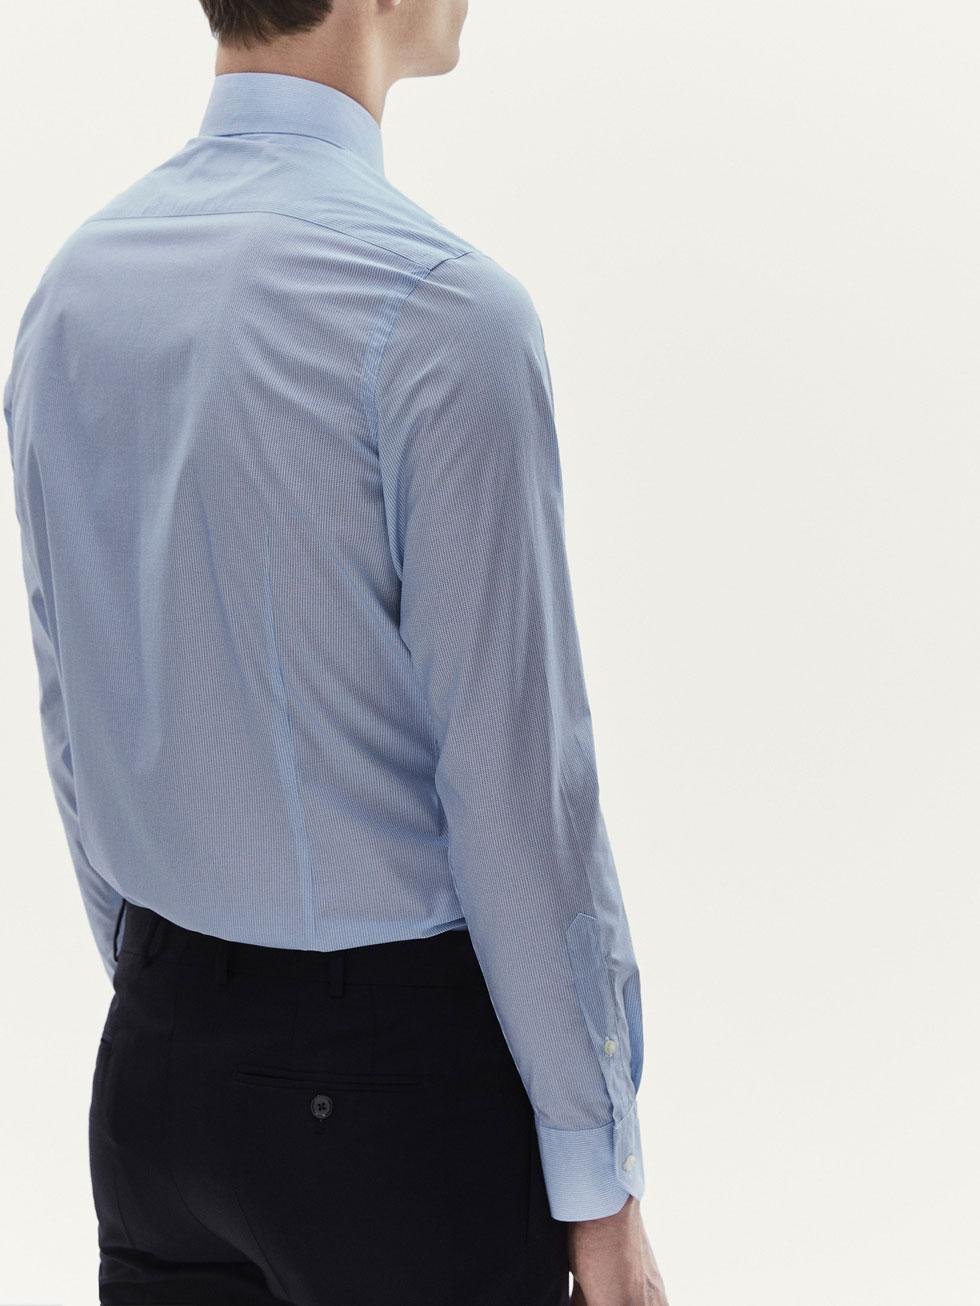teeshirt: (5, 73, 711, 1233)
